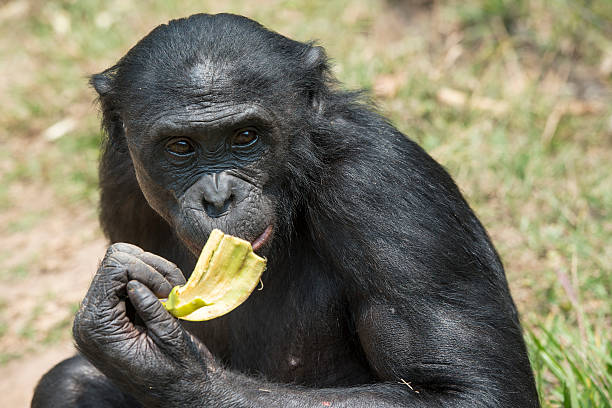chimpanzee: (53, 6, 342, 289)
